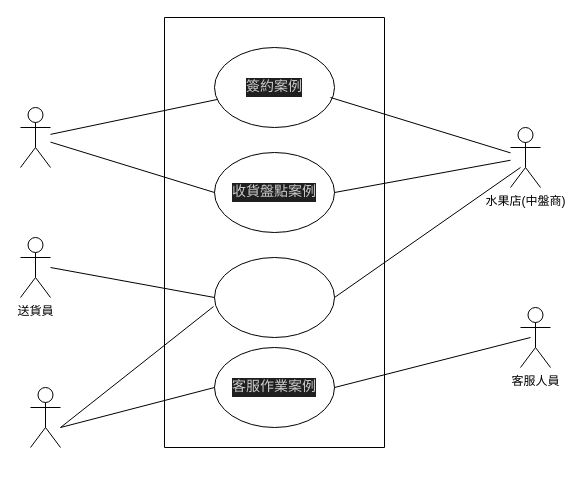
Image size: 582x486. Some labels were removed from this diagram. The shapes that lost their labels are listed below. From the top down, each one's centre as x and y in pixels, then its label:
[35,137]: 農夫
[274,297]: 訂單處理案例
[45,417]: 客戶
